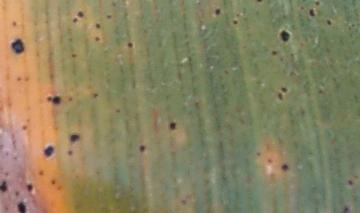tarspot: (9, 37, 25, 55), (44, 94, 62, 106), (278, 29, 291, 43), (42, 145, 55, 158), (15, 201, 28, 213), (69, 133, 80, 144), (1, 180, 9, 192), (308, 7, 316, 19), (341, 204, 351, 213), (280, 162, 289, 172), (25, 182, 34, 192), (93, 21, 102, 31), (168, 121, 176, 132), (346, 177, 354, 188), (137, 144, 146, 153), (48, 177, 57, 186), (214, 7, 221, 18), (276, 92, 283, 103), (324, 18, 332, 27), (104, 12, 112, 21), (20, 123, 28, 132), (113, 106, 121, 115), (279, 86, 289, 93), (230, 19, 240, 26), (36, 169, 46, 176), (126, 41, 134, 49), (76, 10, 84, 18), (12, 188, 20, 196), (270, 48, 277, 57), (94, 35, 101, 44), (71, 16, 78, 25), (265, 156, 272, 165), (92, 91, 98, 101), (66, 149, 73, 157), (22, 75, 30, 82), (254, 150, 262, 157), (221, 68, 229, 75), (313, 1, 322, 7), (70, 52, 77, 59), (11, 19, 16, 28), (66, 96, 72, 103), (15, 75, 21, 82), (317, 88, 323, 94), (254, 1, 262, 5)
